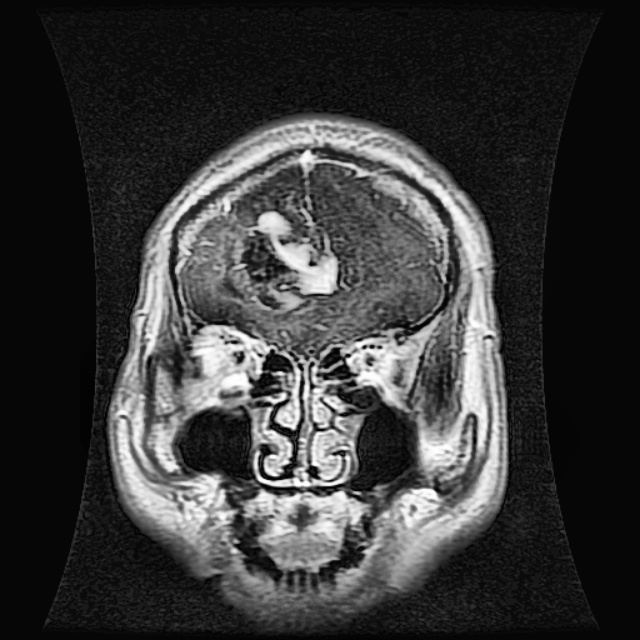Meningioma: (234, 210, 338, 313)
